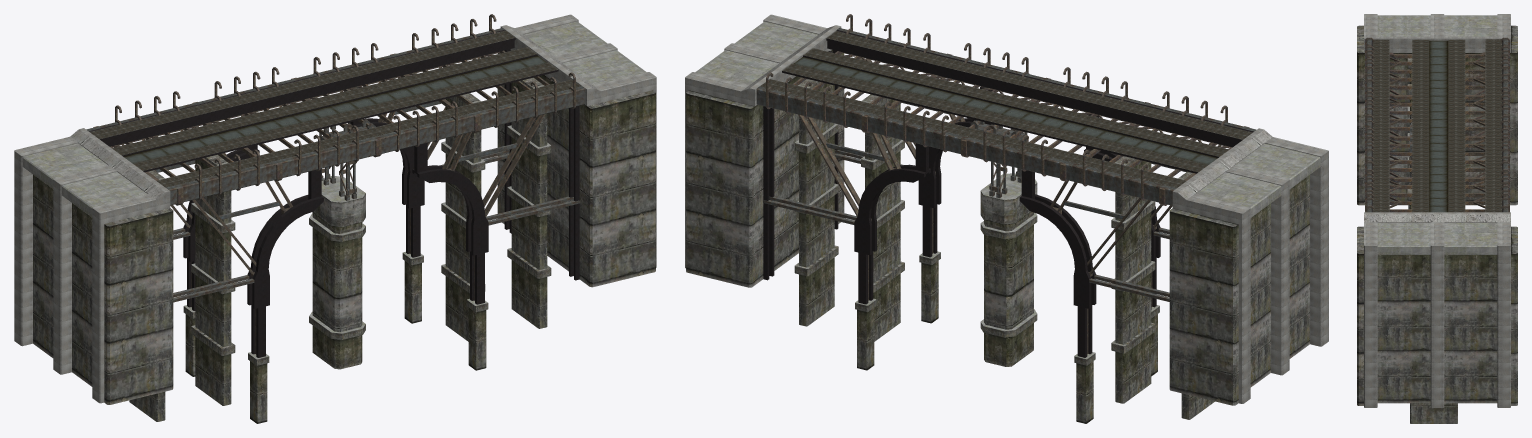
File: bridge2.fbx
The picture shows the model from 3 angles, left to right: view 1: azimuth 30°, elevation 25°; view 2: azimuth 150°, elevation 25°; view 3: azimuth 270°, elevation 25°; orthographic projection. The views are drawn at different scales.
Parts seen in each view (by area): view 1: Object; view 2: Object; view 3: Object.
Part boxes in pixels (<box>): Object: <box>14,14,656,423</box>; Object: <box>685,14,1328,423</box>; Object: <box>1357,14,1517,423</box>.
Bounding box in the file's own units: 16050 × 7625 × 4700.
